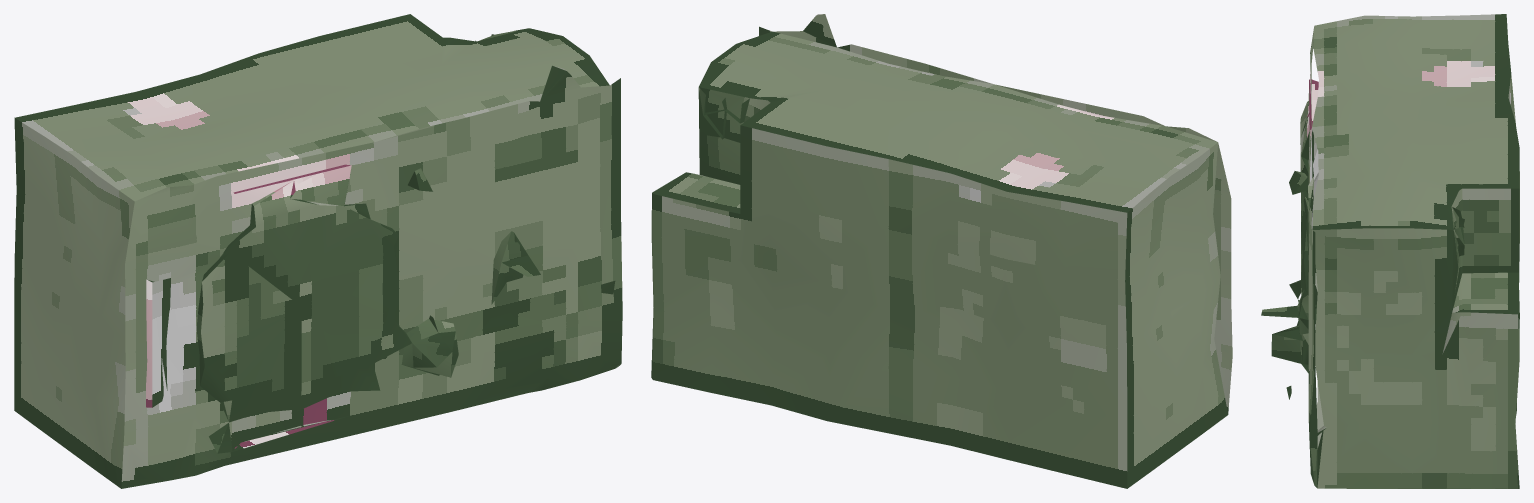
The model's file is vintage_spacecraft_instrument.glb.
3 views of the same model, side by side, from view 1: azimuth 30°, elevation 25°; view 2: azimuth 150°, elevation 25°; view 3: azimuth 270°, elevation 25° (orthographic). The views are drawn at different scales.
Parts seen in each view (by area): view 1: mesh; view 2: mesh; view 3: mesh.
Boxes of the visible parts, bbox=[...] form: mesh: bbox=[14, 14, 622, 488]; mesh: bbox=[651, 14, 1232, 488]; mesh: bbox=[1261, 14, 1519, 488].
Size of the model in its own units: 0.4373 by 0.2693 by 0.2206.
Materials: 1 (1 with a texture image).
